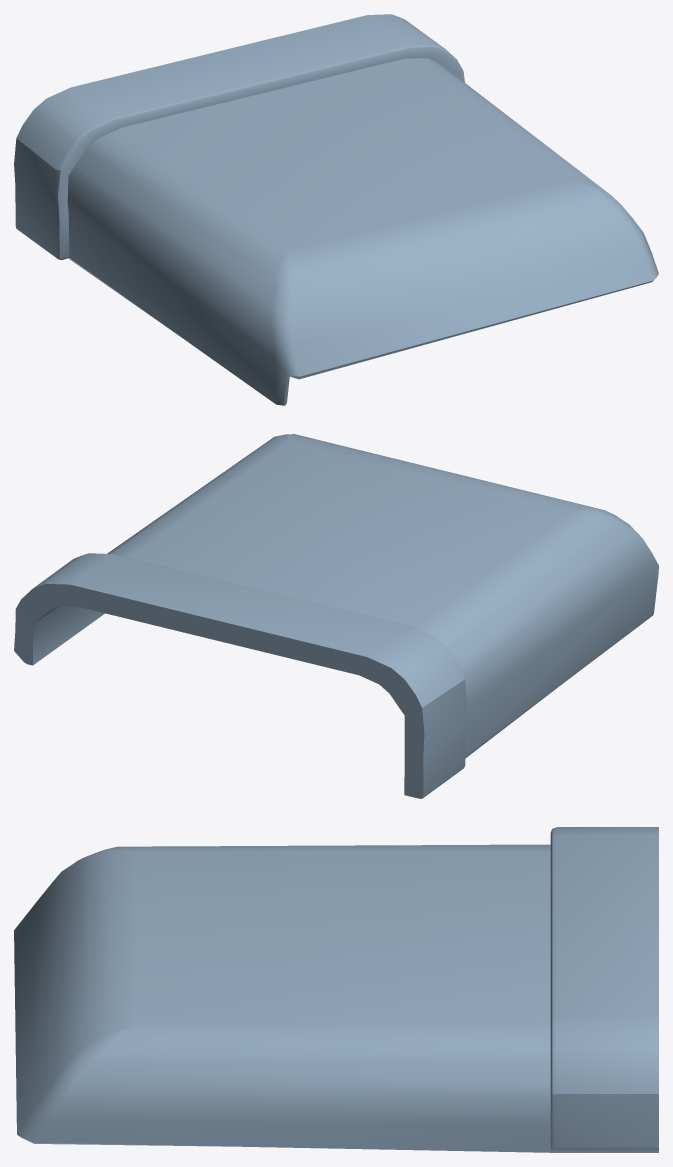
File: Blanket.FBX
3 renders of one model, top to bottom at view 1: azimuth 30°, elevation 25°; view 2: azimuth 150°, elevation 25°; view 3: azimuth 270°, elevation 25°, orthographic. The views are drawn at different scales.
Parts seen in each view (by area): view 1: blanket; view 2: blanket; view 3: blanket.
Boxes of the visible parts, x1,y1,x2,y2 form: blanket: [14, 14, 658, 405]; blanket: [14, 434, 658, 798]; blanket: [14, 827, 658, 1152].
Bounding box in the file's own units: 2.96 × 0.8908 × 3.26.
